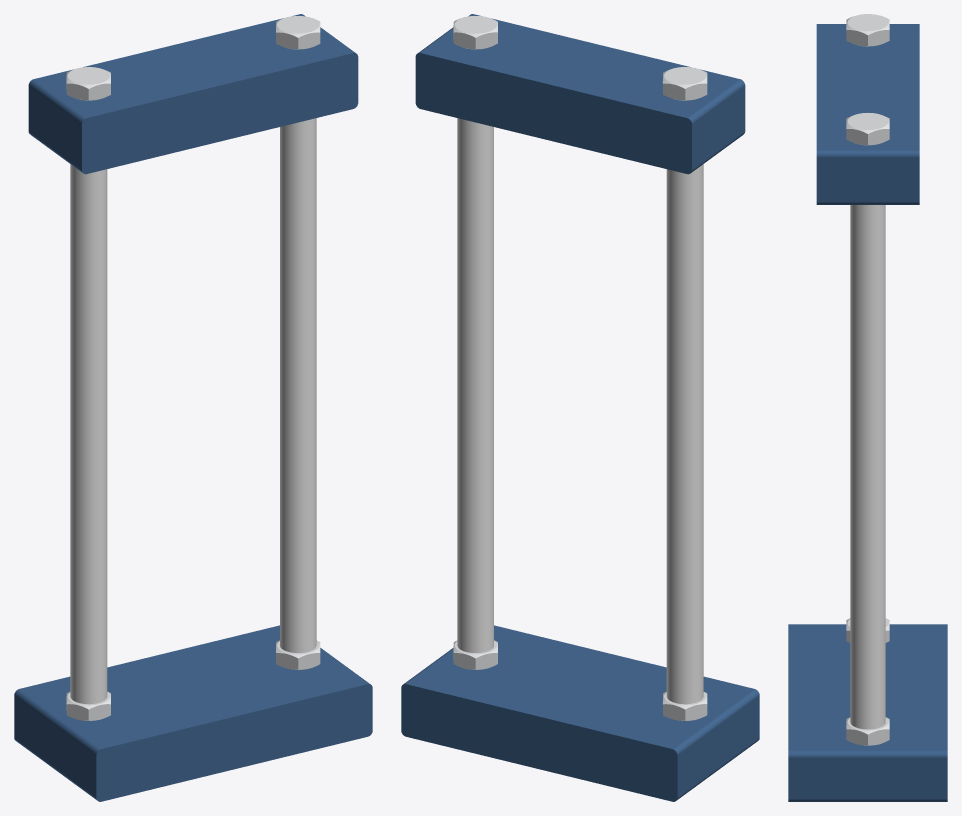
Rendered from load-frame.glb.
3 views of the same model, side by side, from view 1: azimuth 30°, elevation 25°; view 2: azimuth 150°, elevation 25°; view 3: azimuth 270°, elevation 25° (orthographic). The views are drawn at different scales.
Visible parts, largest first — view 1: load-frame; view 2: load-frame; view 3: load-frame.
Part boxes in pixels (bbox=[...]): load-frame: bbox=[14, 14, 372, 801]; load-frame: bbox=[401, 14, 759, 801]; load-frame: bbox=[788, 14, 947, 801].
Size of the model in its own units: 330 by 786 by 170.
